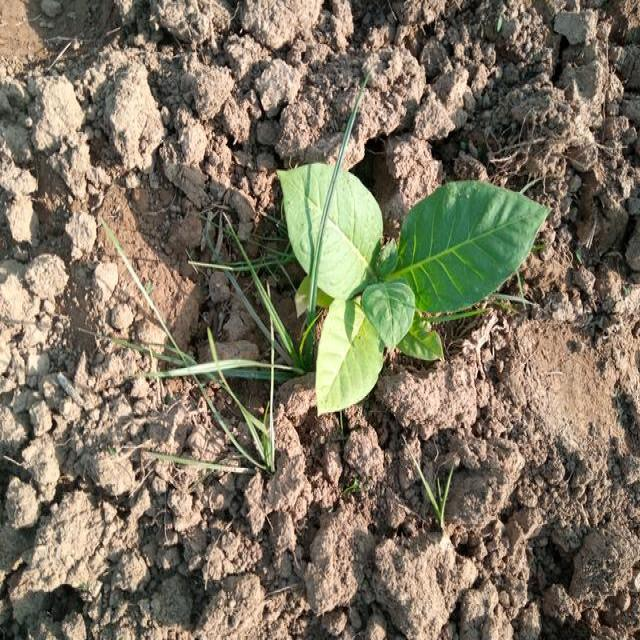crop: (275, 167, 546, 413)
